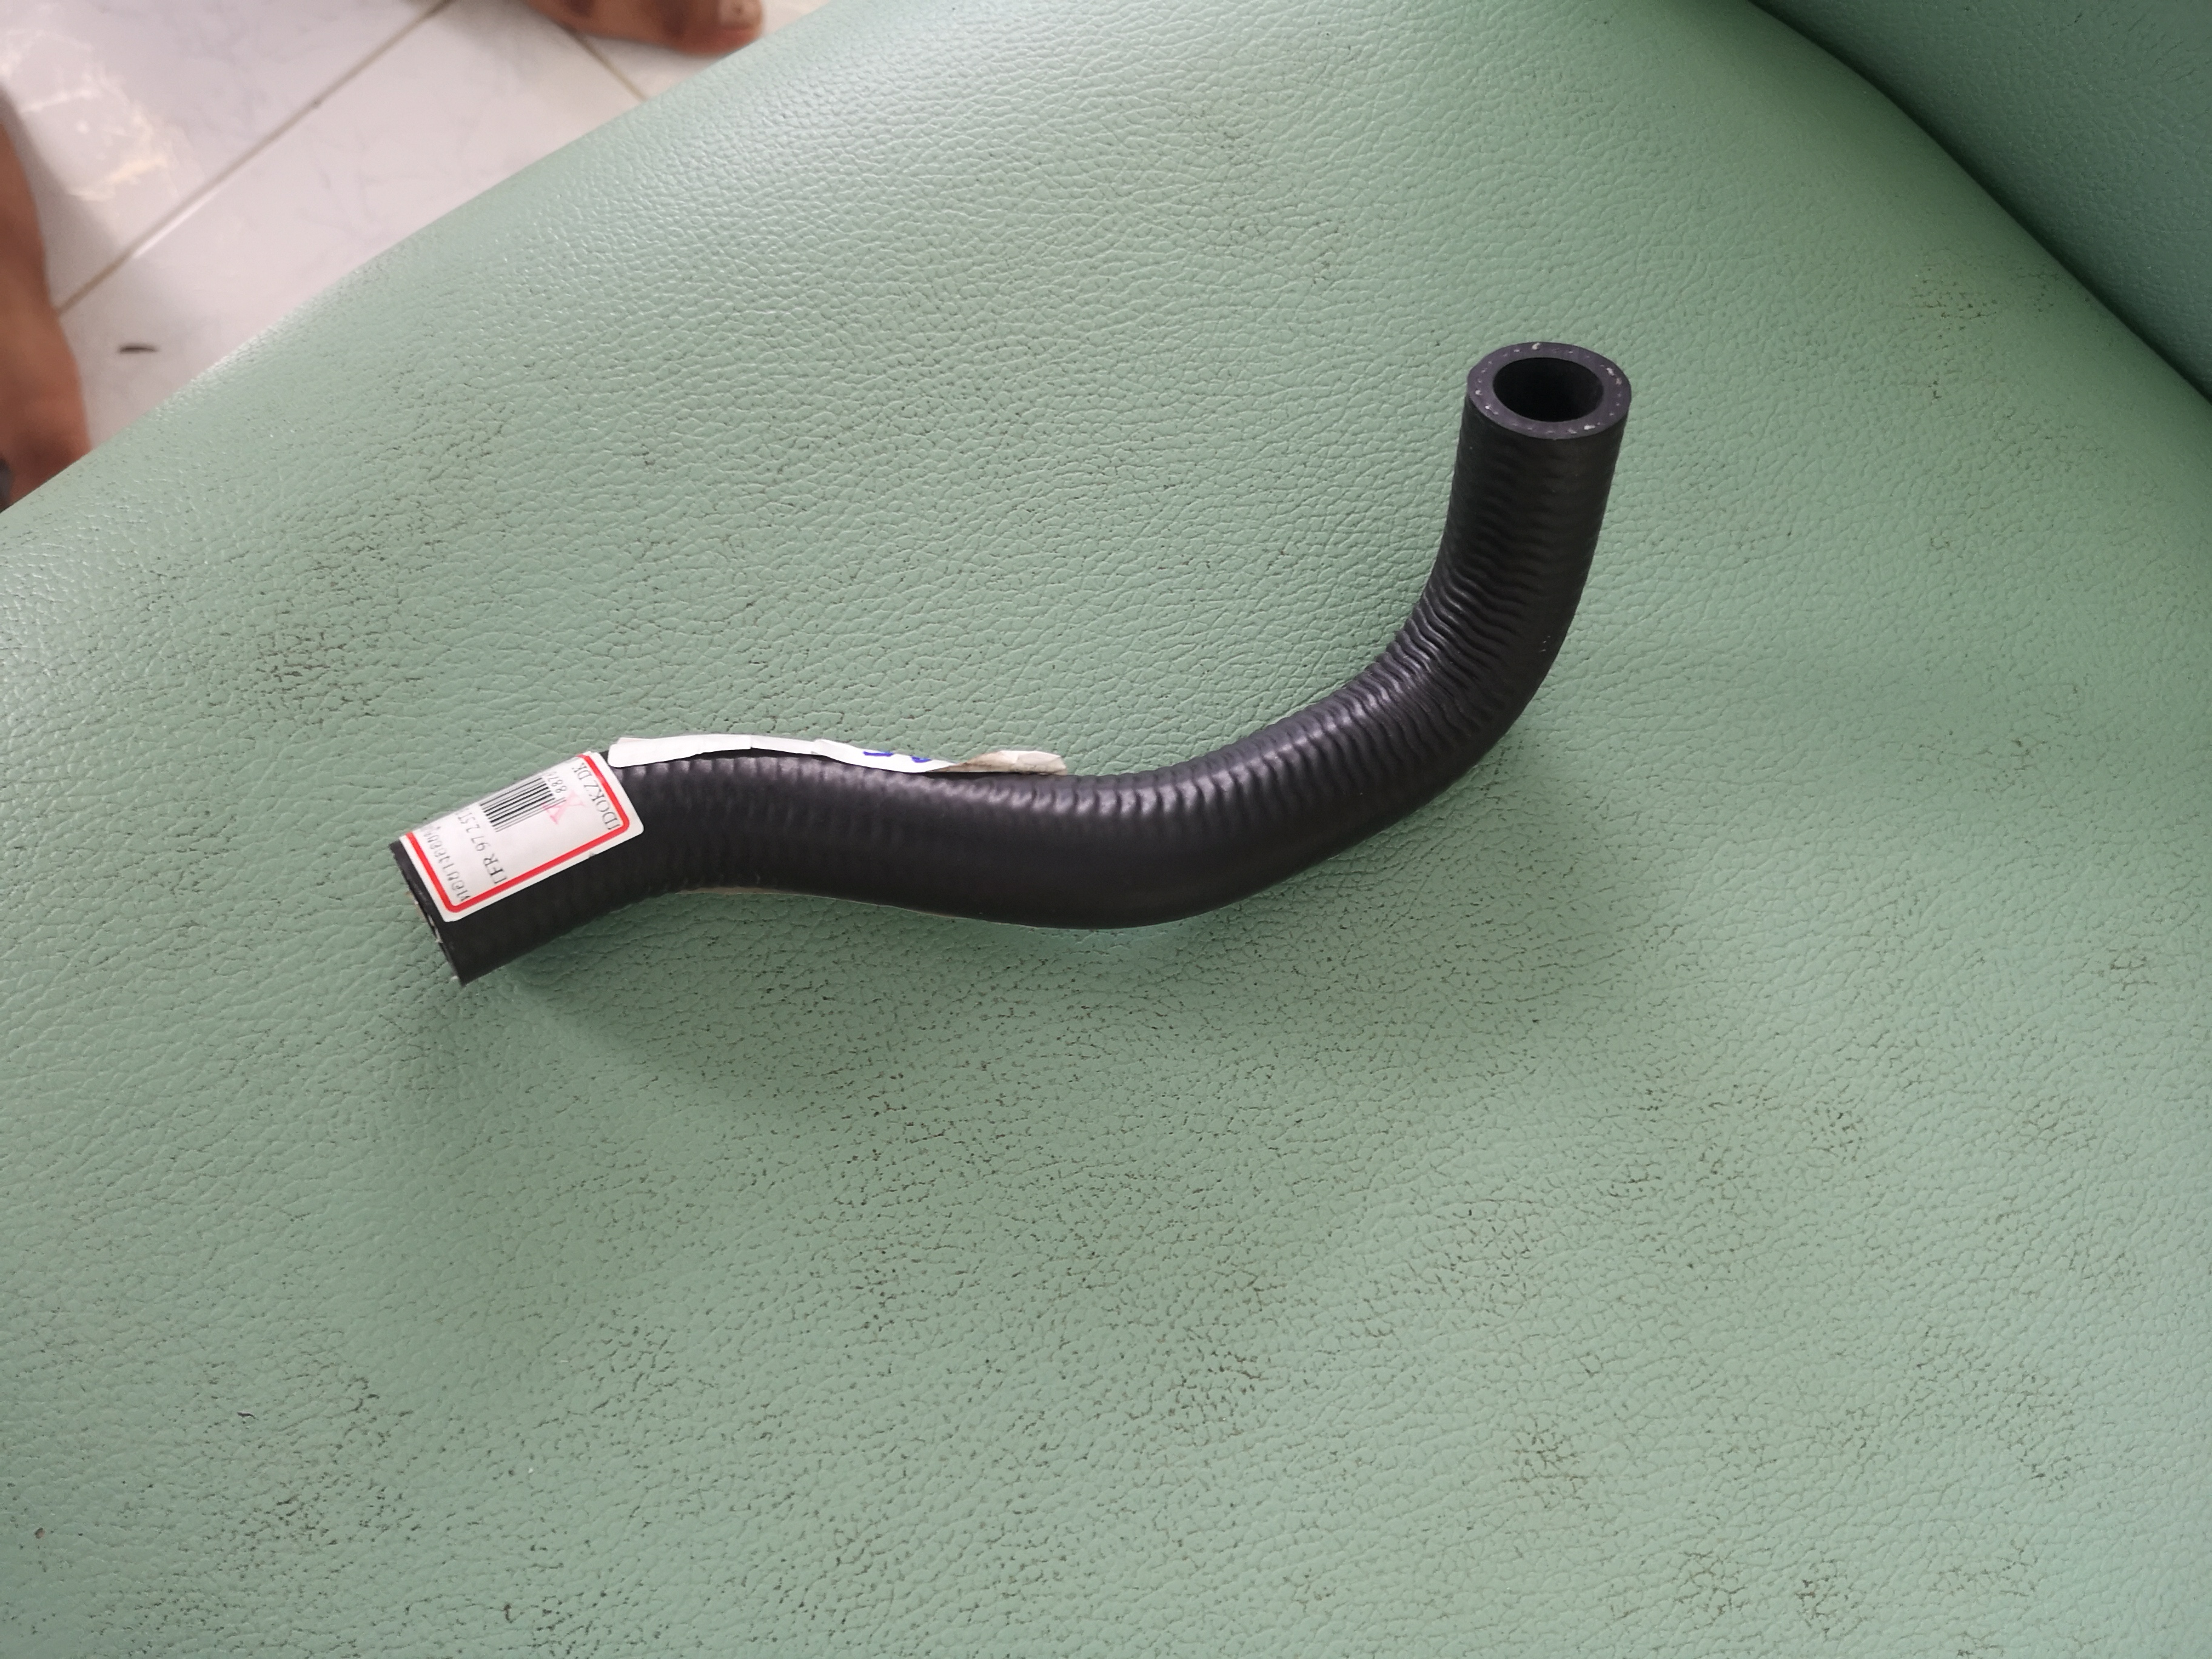ท่อยางน้ำมันเลี้ยงเทอร์โบ: (421, 315, 1627, 1028)
